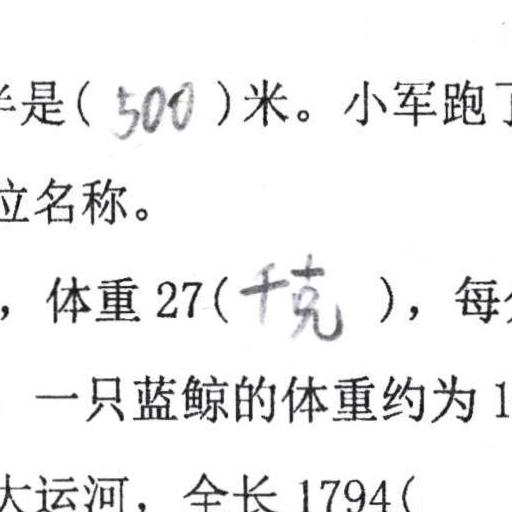ans: (234, 248, 344, 343), (108, 74, 195, 140)
